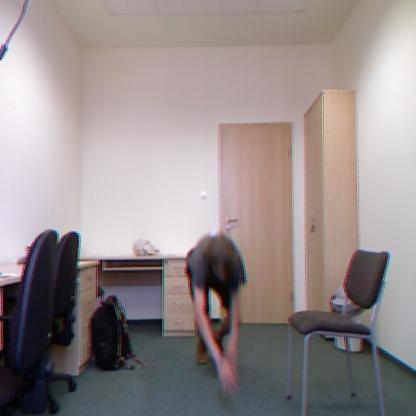fall: (181, 228, 249, 395)
